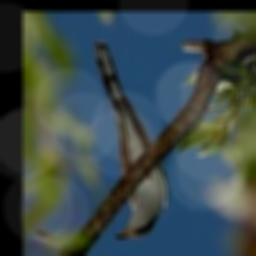Cuckoo: (95, 40, 168, 241)
